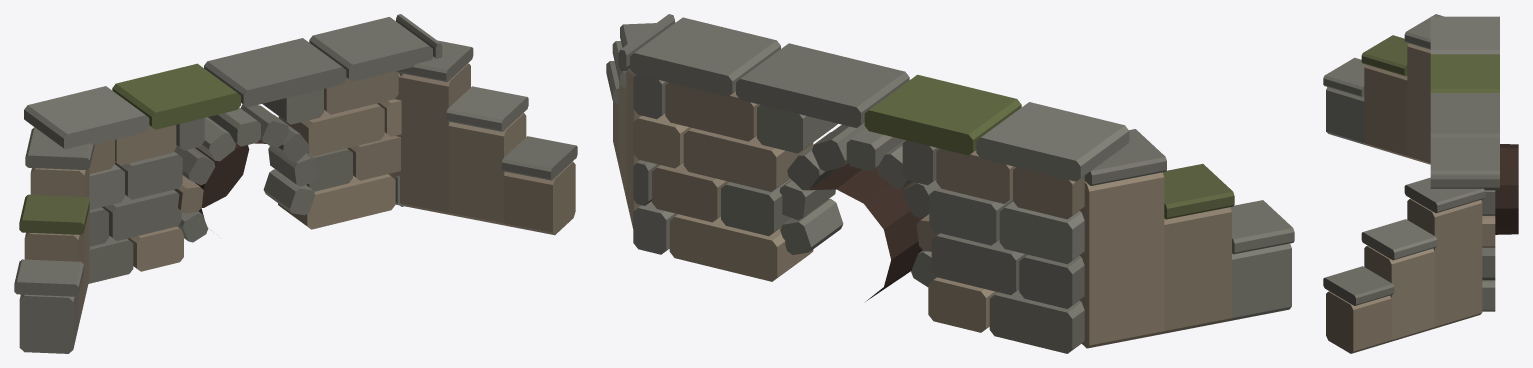
File: prop_culvert_headwall_a.glb
3 renders of one model, left to right at view 1: azimuth 30°, elevation 25°; view 2: azimuth 150°, elevation 25°; view 3: azimuth 270°, elevation 25°, orthographic. The views are drawn at different scales.
Visible parts, largest first — view 1: prop_culvert_headwall_a_mesh; view 2: prop_culvert_headwall_a_mesh; view 3: prop_culvert_headwall_a_mesh.
Boxes of the visible parts, bbox=[...] form: prop_culvert_headwall_a_mesh: bbox=[14, 14, 577, 353]; prop_culvert_headwall_a_mesh: bbox=[606, 14, 1294, 353]; prop_culvert_headwall_a_mesh: bbox=[1323, 14, 1518, 353].
Size of the model in its own units: 4.82 by 1.33 by 1.66.
